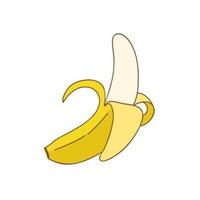banane: (38, 33, 162, 167)
